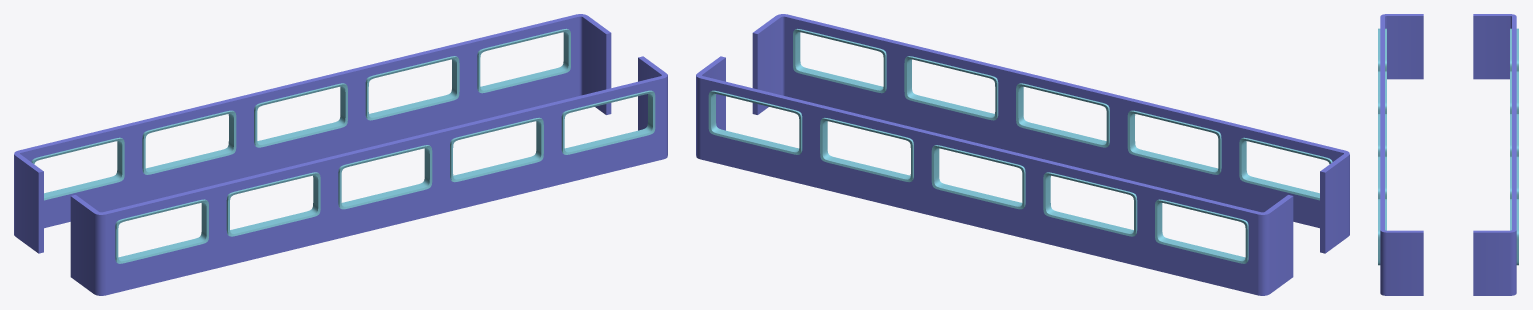
File: wagon walls.fbx
The picture shows the model from 3 angles, left to right: view 1: azimuth 30°, elevation 25°; view 2: azimuth 150°, elevation 25°; view 3: azimuth 270°, elevation 25°; orthographic projection. The views are drawn at different scales.
Visible parts, largest first — view 1: wagon, wagon.001; view 2: wagon, wagon.001; view 3: wagon.001, wagon.
Part boxes in pixels (x1,y1,x2,y2): wagon: (18, 14, 663, 295); wagon.001: (14, 14, 667, 295); wagon: (700, 14, 1345, 295); wagon.001: (696, 14, 1349, 295); wagon.001: (1380, 14, 1516, 295); wagon: (1378, 16, 1518, 265).
Bounding box in the file's own units: 2566 × 347 × 698.
